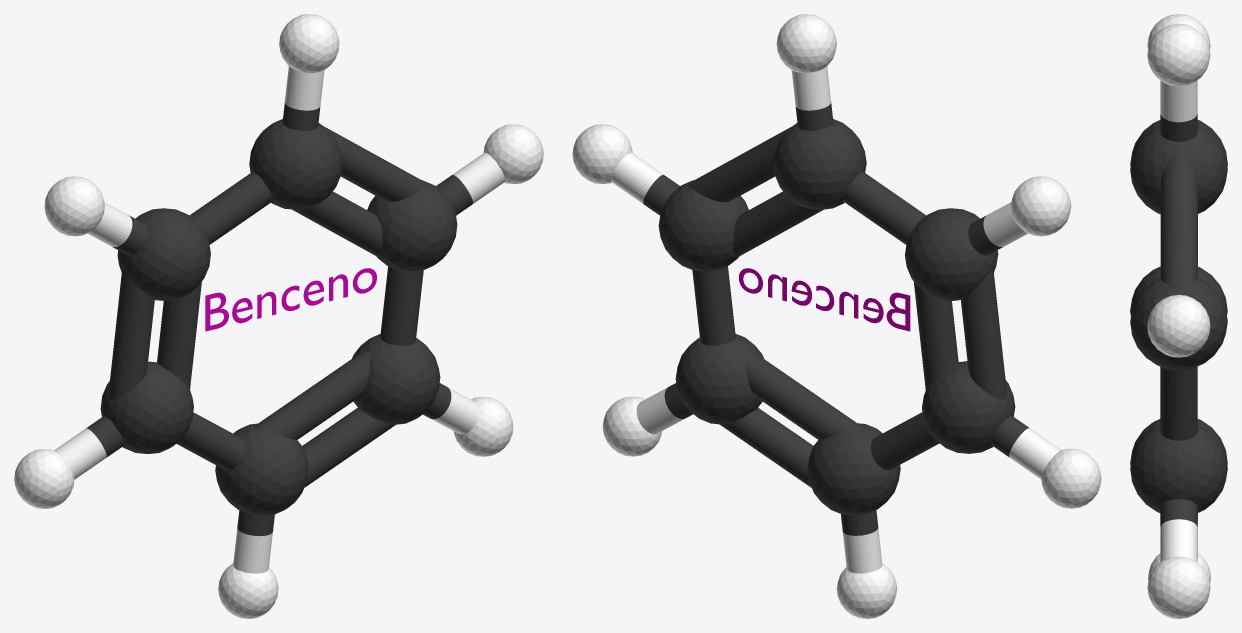
Rendered from benceno.glb.
3 renders of one model, left to right at view 1: azimuth 30°, elevation 25°; view 2: azimuth 150°, elevation 25°; view 3: azimuth 270°, elevation 25°, orthographic. The views are drawn at different scales.
Visible parts, largest first — view 1: Shape_IndexedFaceSet.032, Shape_IndexedFaceSet.018, Text; view 2: Shape_IndexedFaceSet.032, Shape_IndexedFaceSet.018, Text; view 3: Shape_IndexedFaceSet.032, Shape_IndexedFaceSet.018.
Boxes of the visible parts, bbox=[...] form: Shape_IndexedFaceSet.032: bbox=[86, 102, 472, 536]; Shape_IndexedFaceSet.018: bbox=[14, 14, 543, 618]; Text: bbox=[205, 268, 376, 331]; Shape_IndexedFaceSet.032: bbox=[643, 102, 1028, 535]; Shape_IndexedFaceSet.018: bbox=[572, 14, 1101, 618]; Text: bbox=[738, 268, 910, 331]; Shape_IndexedFaceSet.032: bbox=[1130, 114, 1227, 526]; Shape_IndexedFaceSet.018: bbox=[1147, 14, 1210, 618].
Bounding box in the file's own units: 50.33 × 53.96 × 7.83.
